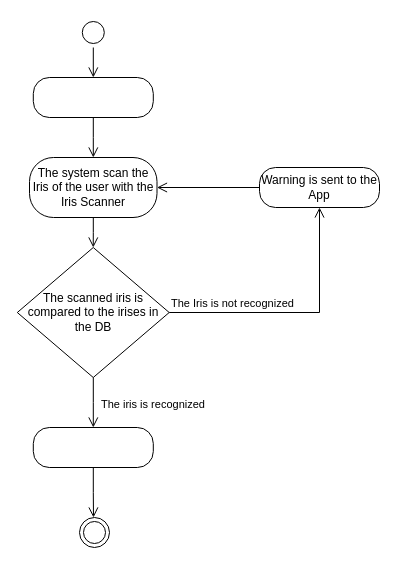
This 398x565 diagram has some shape labels left out. The centre of each missing label's shape, as x and y in pixels:
The system logs the user in: the point at 92,447
User puts the Glasses on: the point at 92,97
